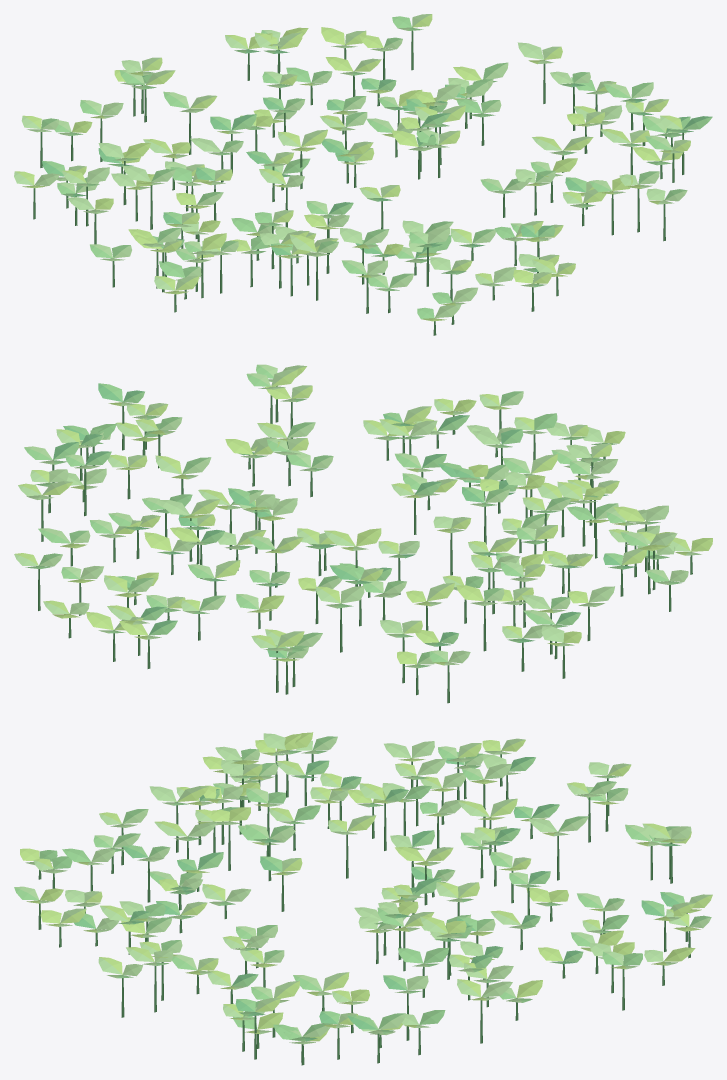
The model's file is Ground_01_Clover.glb.
3 views of the same model, one above another, from view 1: azimuth 30°, elevation 25°; view 2: azimuth 150°, elevation 25°; view 3: azimuth 270°, elevation 25° (orthographic). The views are drawn at different scales.
Parts seen in each view (by area): view 1: Ground_01_Clover; view 2: Ground_01_Clover; view 3: Ground_01_Clover.
Boxes of the visible parts, left/top/right/bottom form: Ground_01_Clover: left=14, top=14, right=712, bottom=335; Ground_01_Clover: left=14, top=364, right=712, bottom=703; Ground_01_Clover: left=14, top=732, right=712, bottom=1065.
Bounding box in the file's own units: 2.05 × 0.1899 × 2.
